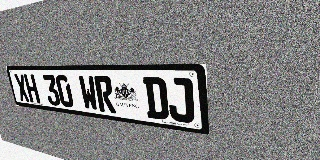0: (55, 75, 74, 108)
3: (42, 75, 61, 106)
D: (143, 77, 169, 120)
H: (23, 74, 41, 104)
J: (166, 77, 195, 124)
R: (94, 76, 116, 113)
W: (78, 75, 99, 111)
X: (14, 74, 30, 102)
